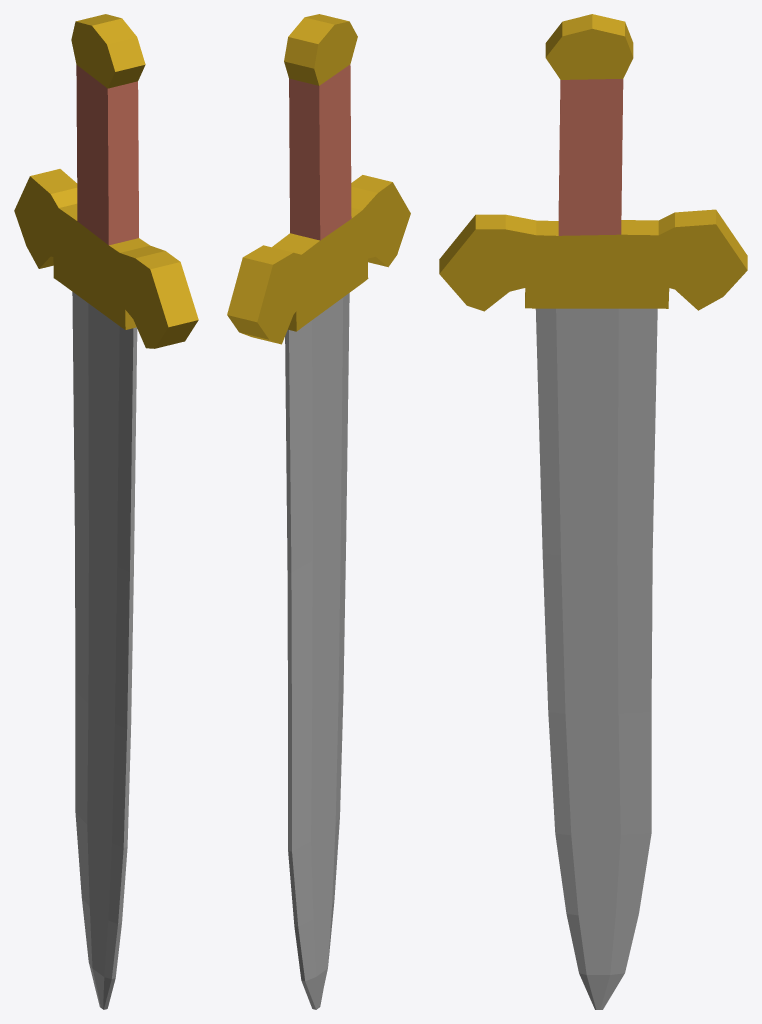
Rendered from EpeeCourte.fbx.
The picture shows the model from 3 angles, left to right: view 1: azimuth 30°, elevation 25°; view 2: azimuth 150°, elevation 25°; view 3: azimuth 270°, elevation 25°; orthographic projection.
Visible parts, largest first — view 1: Cube; view 2: Cube; view 3: Cube.
Boxes of the visible parts, box(x1,y1,x2,y2) form: Cube: box(14, 14, 198, 1009); Cube: box(227, 14, 410, 1009); Cube: box(439, 14, 747, 1009).
Size of the model in its own units: 25.21 by 785 by 222.
